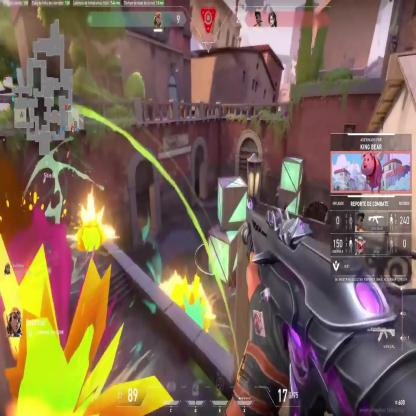enemy: (275, 180, 281, 209)
enemy_head: (278, 184, 280, 188)
